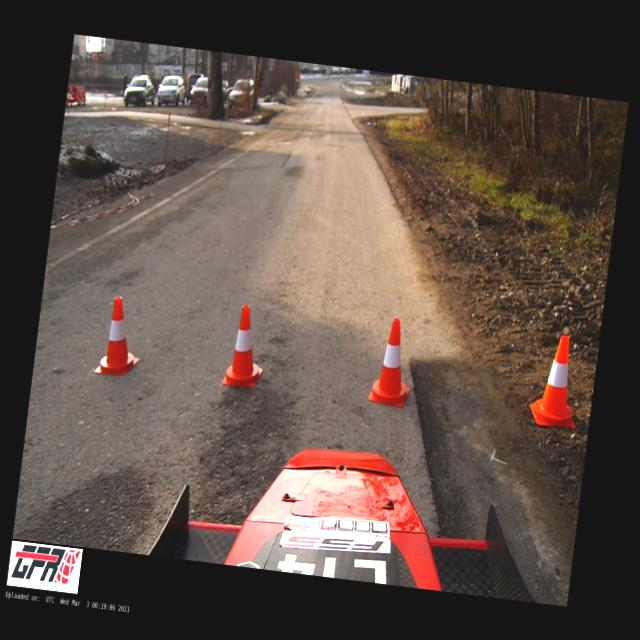orange_cone: (528, 332, 588, 429), (367, 316, 418, 408), (94, 294, 146, 378), (221, 303, 269, 390)
